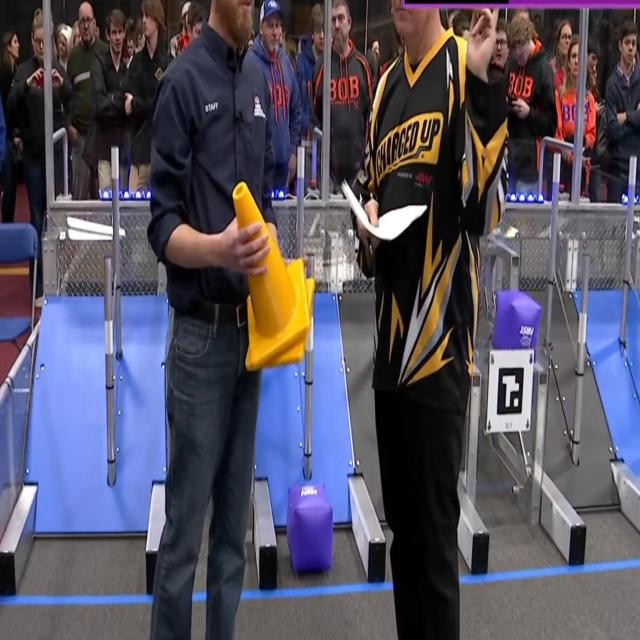frc_cone: (232, 180, 311, 362)
frc_cube: (286, 483, 334, 574), (492, 288, 540, 357)
